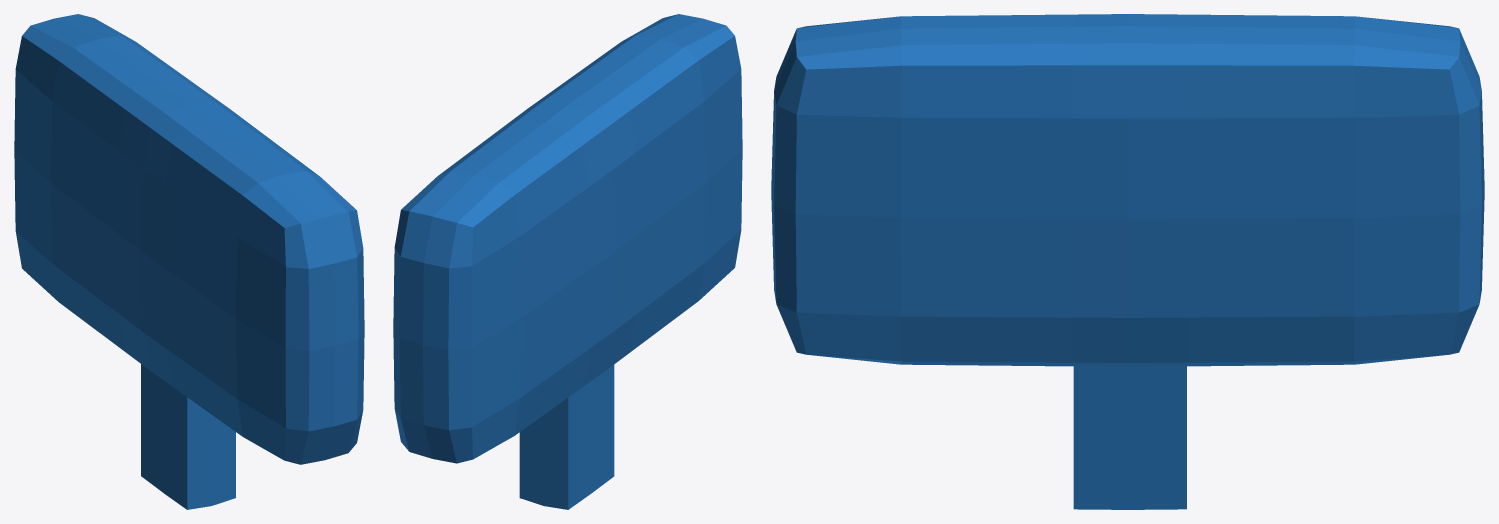
The model's file is blue_small_sign.fbx.
3 views of the same model, side by side, from view 1: azimuth 30°, elevation 25°; view 2: azimuth 150°, elevation 25°; view 3: azimuth 270°, elevation 25° (orthographic). The views are drawn at different scales.
Visible parts, largest first — view 1: Cube.001; view 2: Cube.001; view 3: Cube.001.
Boxes of the visible parts, x1,y1,x2,y2 form: Cube.001: (14, 14, 364, 509); Cube.001: (393, 14, 742, 509); Cube.001: (771, 14, 1484, 509).
Size of the model in its own units: 56.49 by 215 by 295.
